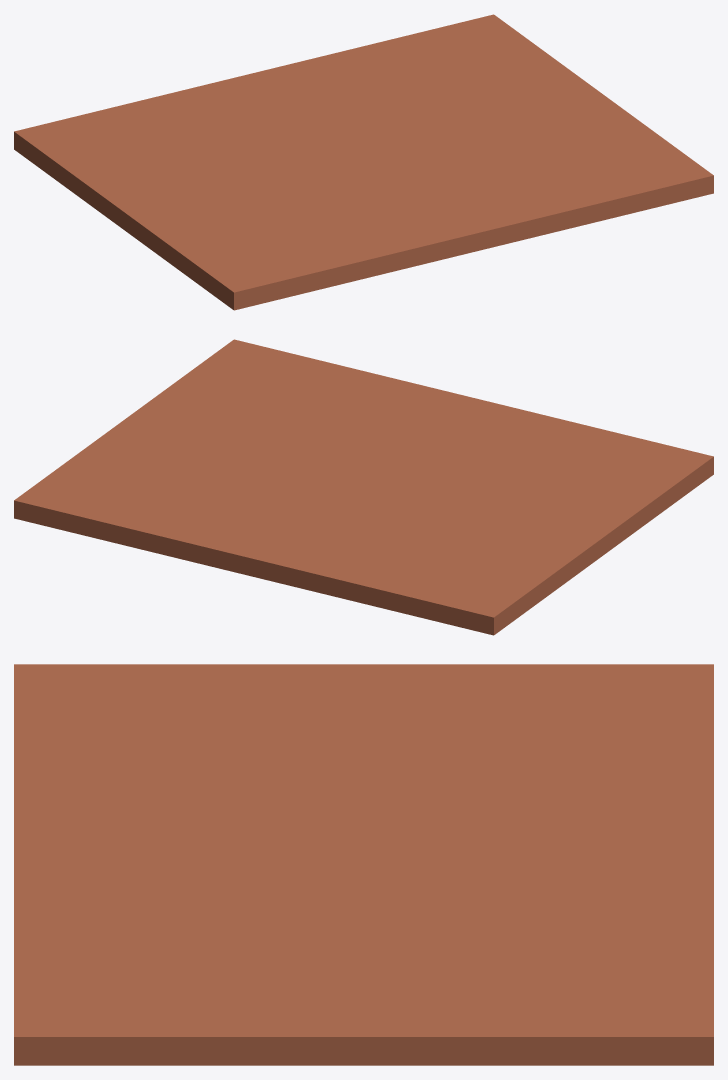
File: Roof.fbx
3 renders of one model, top to bottom at view 1: azimuth 30°, elevation 25°; view 2: azimuth 150°, elevation 25°; view 3: azimuth 270°, elevation 25°, orthographic. The views are drawn at different scales.
Visible parts, largest first — view 1: Roof; view 2: Roof; view 3: Roof.
Boxes of the visible parts, x1,y1,x2,y2 form: Roof: (14,14,713,310); Roof: (14,339,713,635); Roof: (14,664,713,1065).
Size of the model in its own units: 3109 by 111 by 2469.
